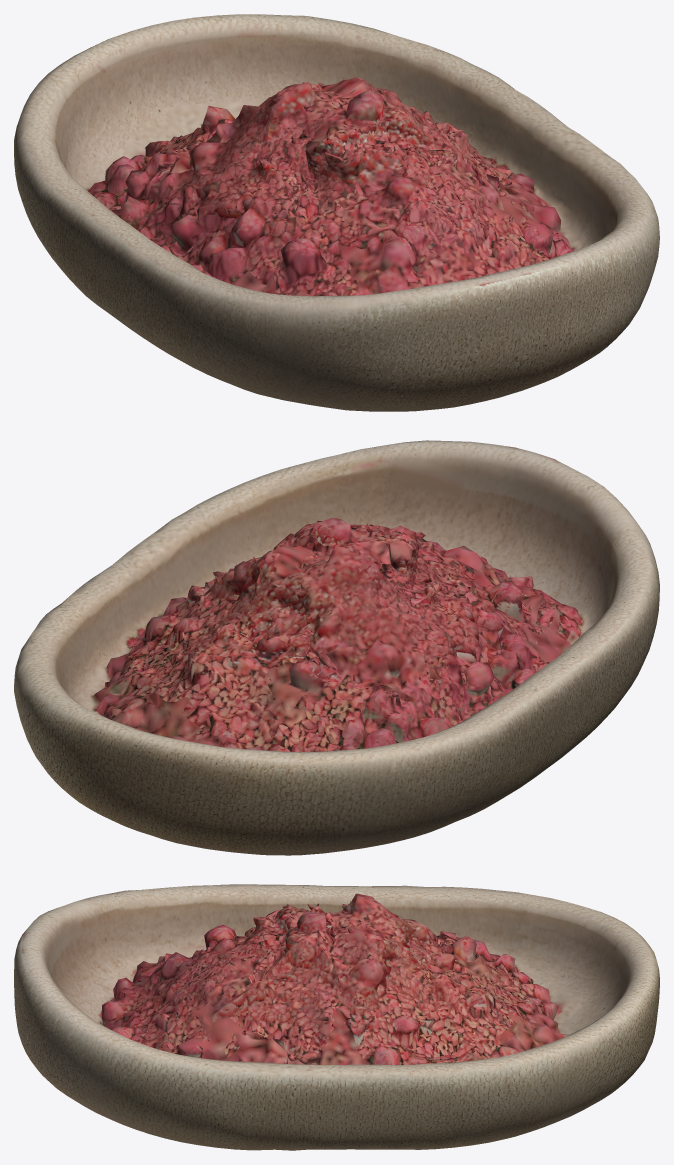
File: Prop_PowderDish_Pink.fbx
3 renders of one model, top to bottom at view 1: azimuth 30°, elevation 25°; view 2: azimuth 150°, elevation 25°; view 3: azimuth 270°, elevation 25°, orthographic. The views are drawn at different scales.
Parts seen in each view (by area): view 1: texture_mapping; view 2: texture_mapping; view 3: texture_mapping.
Part boxes in pixels (left/top/right/bottom): texture_mapping: left=14, top=14, right=659, bottom=411; texture_mapping: left=14, top=440, right=659, bottom=855; texture_mapping: left=14, top=884, right=659, bottom=1150.
Size of the model in its own units: 0.709 by 0.9994 by 0.3085.
Materials: 1 (1 with a texture image).
